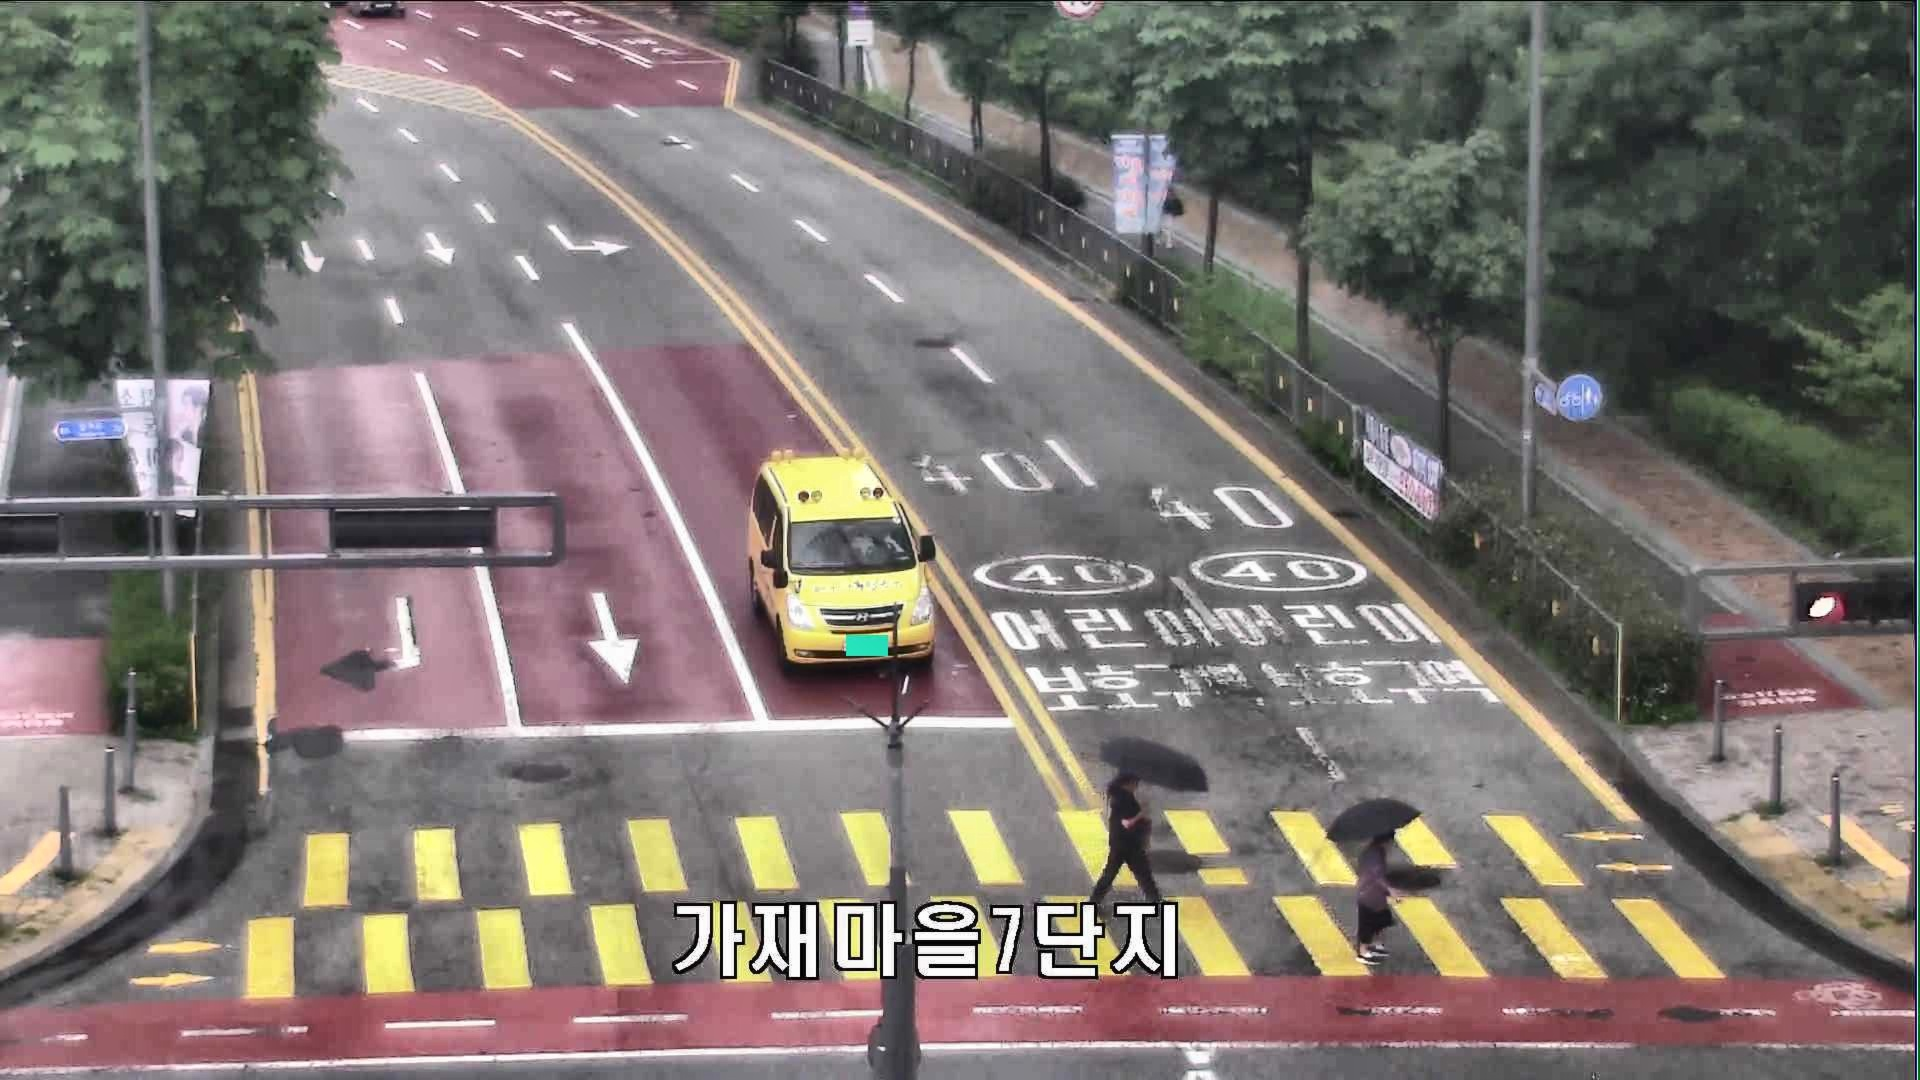um_crosswalk: (1087, 732, 1209, 914), (1324, 799, 1418, 969)
